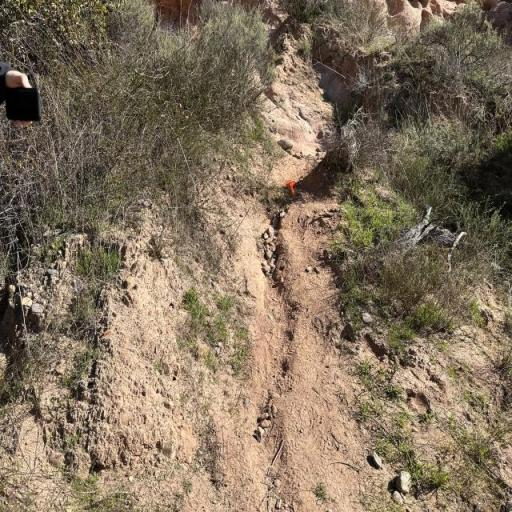mallet: (286, 181, 296, 196)
